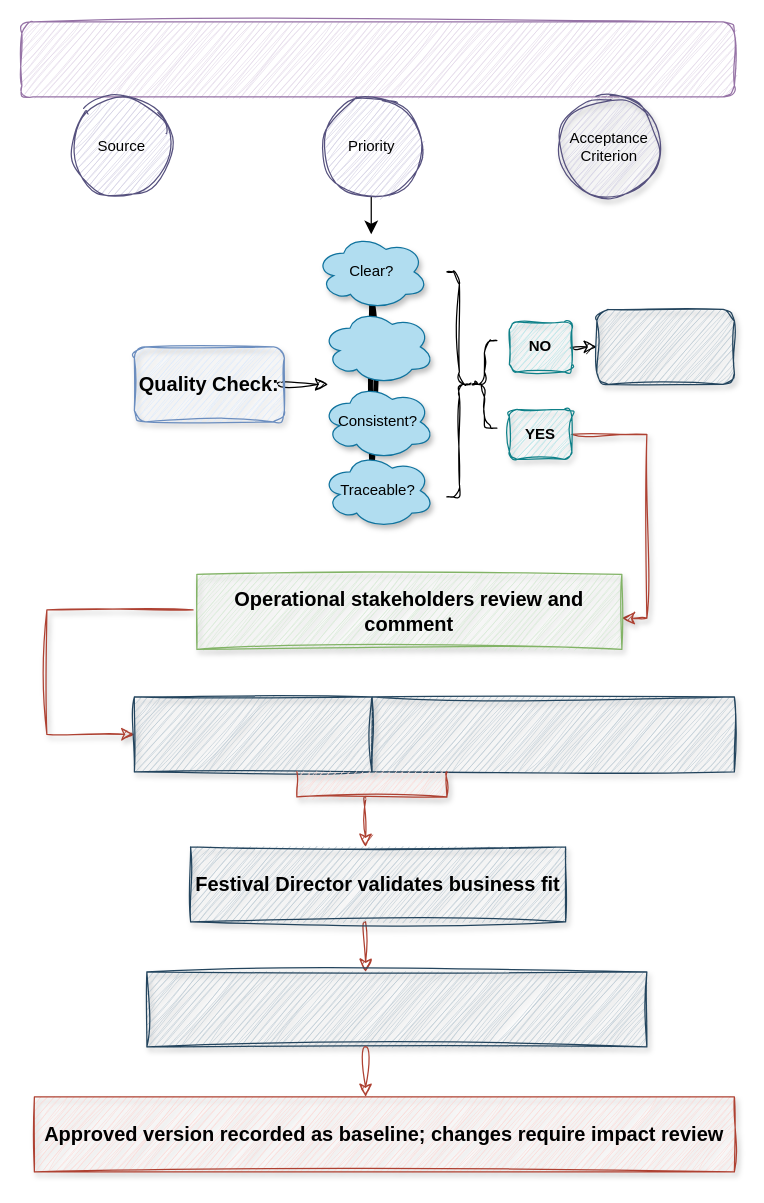
The diagram is 764 pixels wide and 1203 high, and some of its shapes have lost their labels. The centre of each missing label's shape, as x and y in pixels:
BA documents requirements ID: the point at 377,59
BA resolves comments;: the point at 253,736
Developer assesses techncial impact: the point at 554,736
Feasible?: the point at 379,348
Festival Organiser approves or returns for revision: the point at 397,1011
Revise: the point at 666,348
